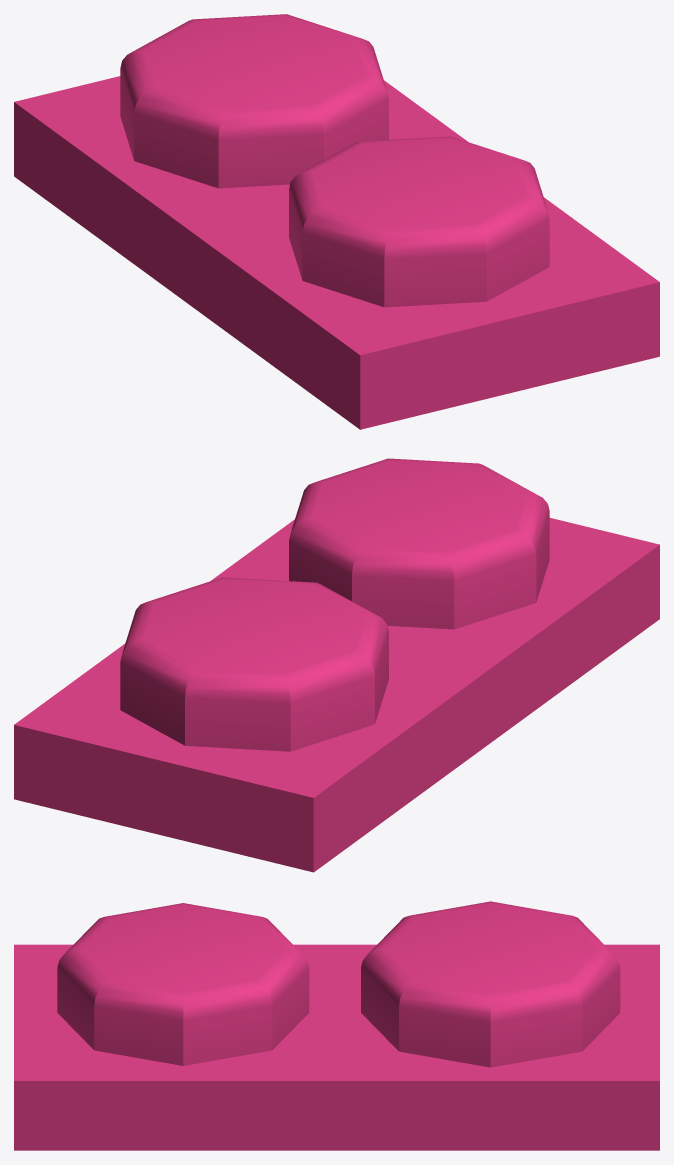
The picture shows the model from 3 angles, top to bottom: view 1: azimuth 30°, elevation 25°; view 2: azimuth 150°, elevation 25°; view 3: azimuth 270°, elevation 25°; orthographic projection. The views are drawn at different scales.
Visible parts, largest first — view 1: 平面; view 2: 平面; view 3: 平面.
Part boxes in pixels (x1,y1,x2,y2): 平面: (14,14,659,429); 平面: (14,458,659,872); 平面: (14,901,659,1150).
Size of what is drawn, in the model's own units: 2 by 0.9113 by 4.
